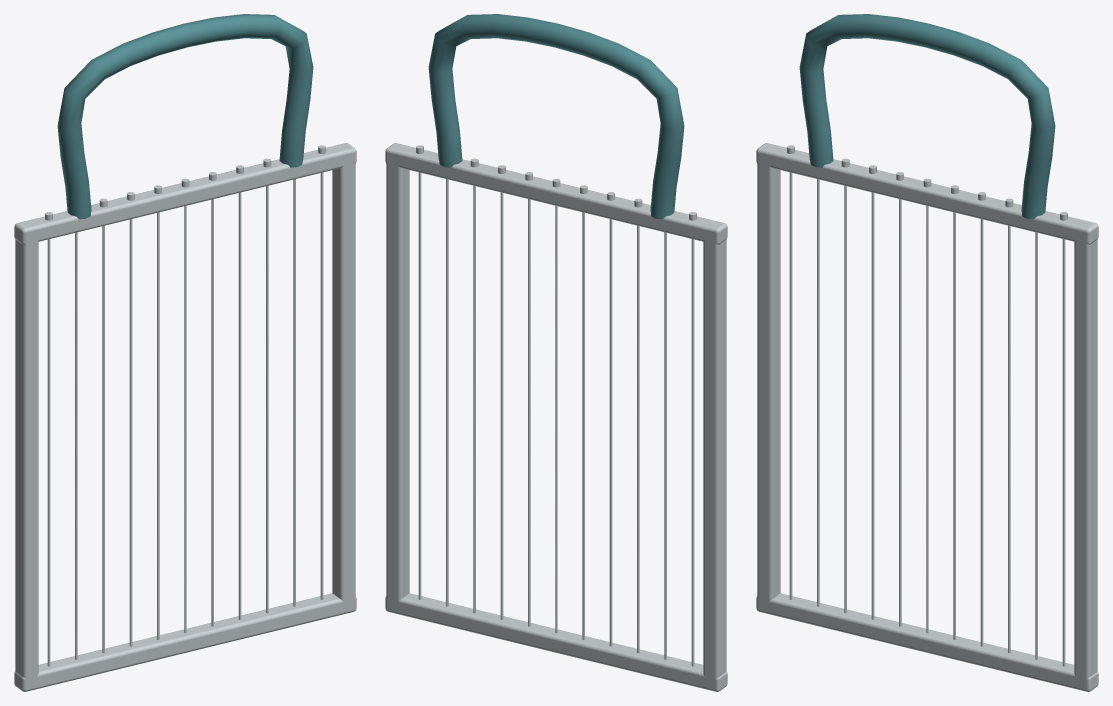
File: cheesemaking-and-dairy-cellar-vertical-curd-harp-1995722d__30857.glb
3 views of the same model, side by side, from view 1: azimuth 30°, elevation 25°; view 2: azimuth 150°, elevation 25°; view 3: azimuth 330°, elevation 25° (orthographic).
Parts seen in each view (by area): view 1: vertical-curd-harp; view 2: vertical-curd-harp; view 3: vertical-curd-harp.
Boxes of the visible parts, left/top/right/bottom form: vertical-curd-harp: left=14, top=14, right=356, bottom=691; vertical-curd-harp: left=385, top=14, right=727, bottom=691; vertical-curd-harp: left=756, top=14, right=1098, bottom=691.
Bounding box in the file's own units: 0.38 × 0.6774 × 0.024.
